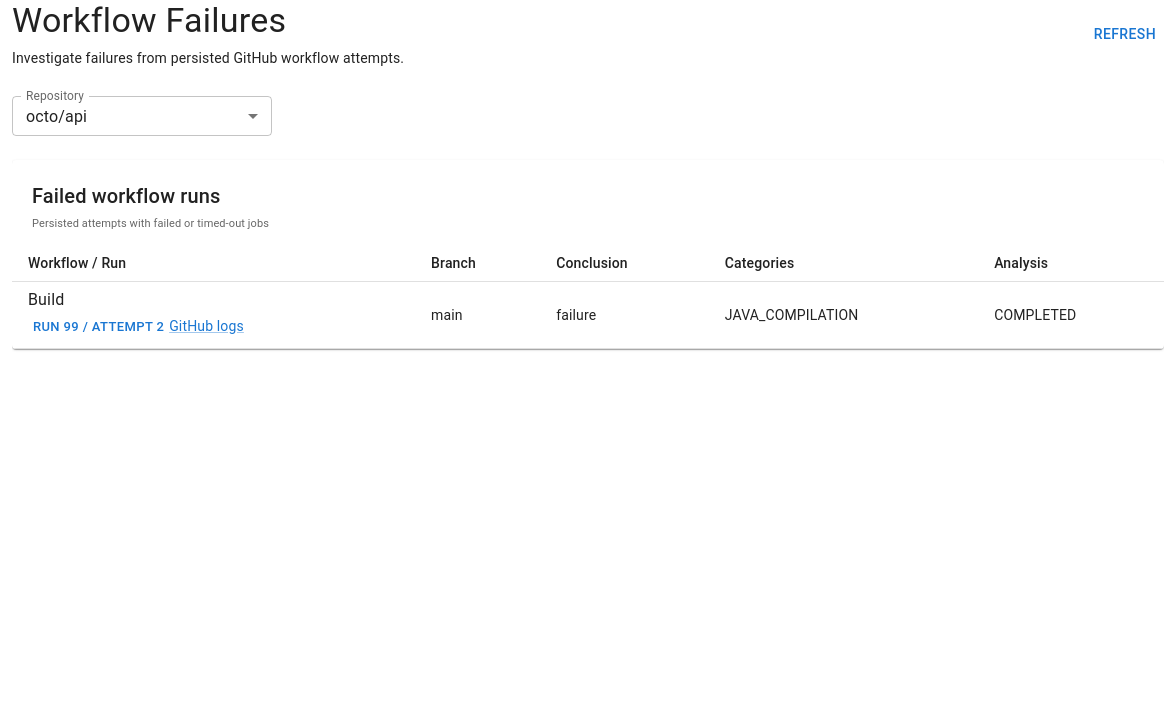
Test: persisted workflow failures › preserves legacy summaries without structured findings (null)
The width and height of the screenshot is (1176, 720).
Click the button "Run 99 / attempt 2": (99,327) top-left (28, 312), bottom-right (169, 342)
(page scrolled)
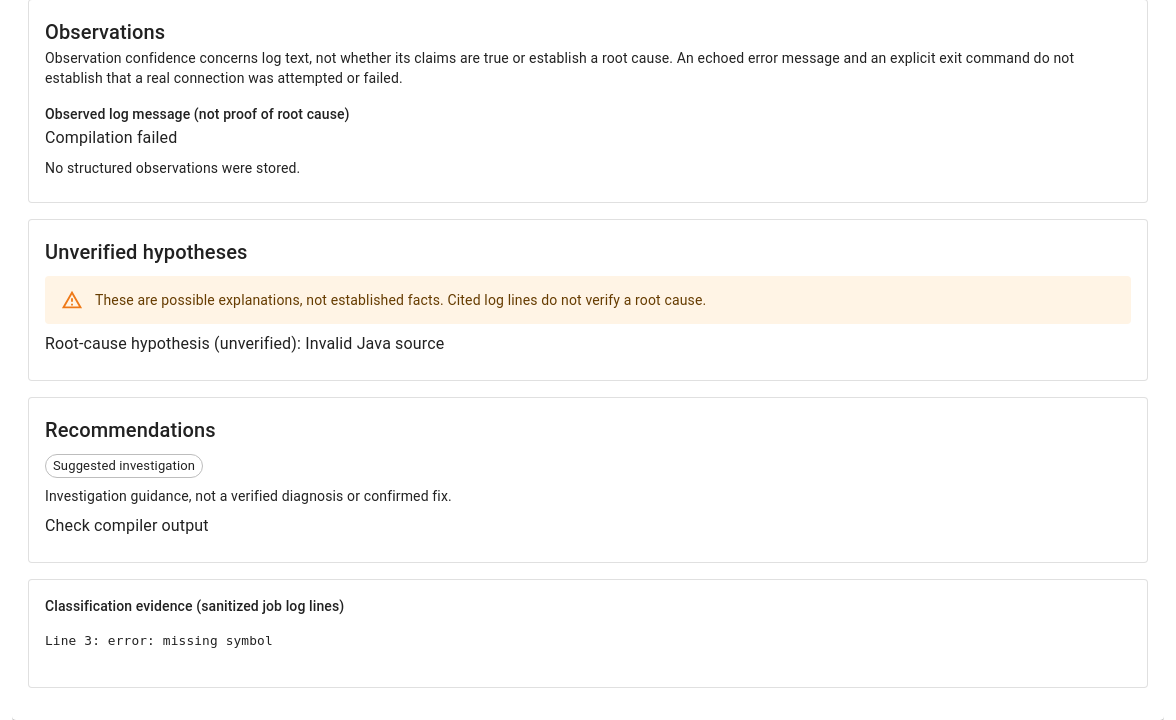
Now the text "Compilation failed" is shown, box top-left (45, 128), bottom-right (177, 147)
Now the text "Root-cause hypothesis (unverified): Invalid Java source" is shown, box top-left (45, 334), bottom-right (444, 353)
Now the text "Check compiler output" is shown, box top-left (45, 516), bottom-right (209, 535)
